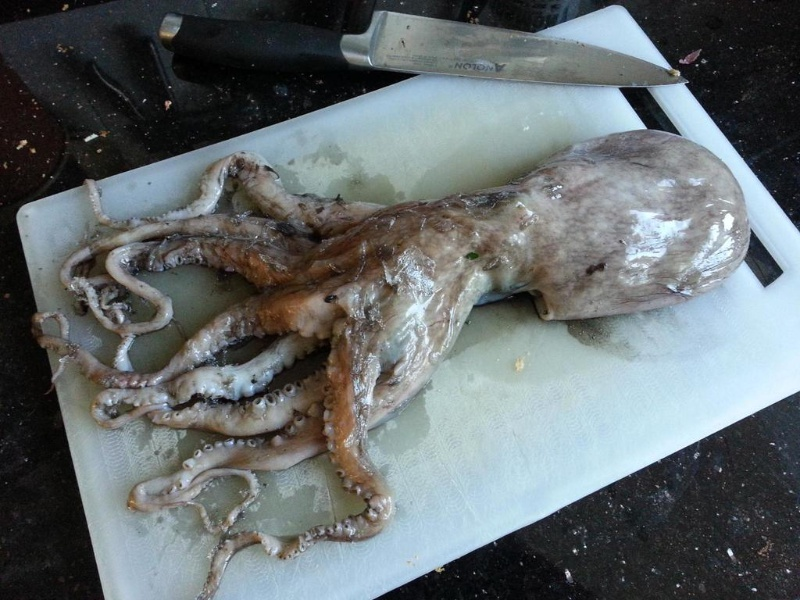knife: (157, 2, 696, 89)
